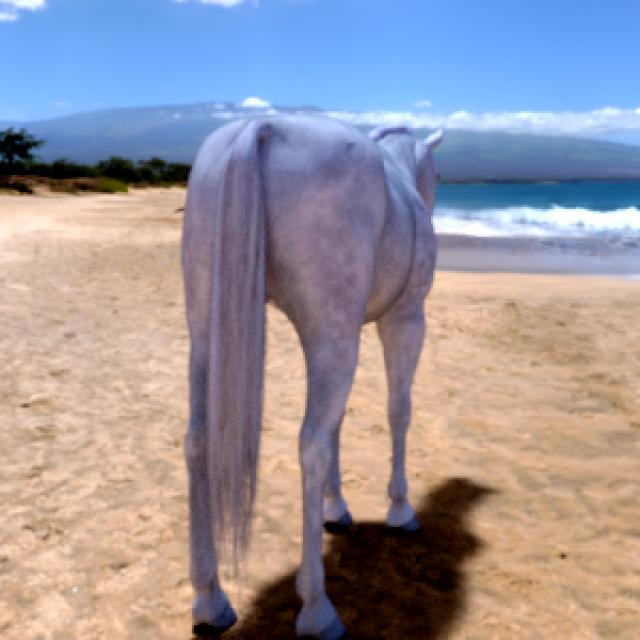horse: (182, 115, 441, 639)
